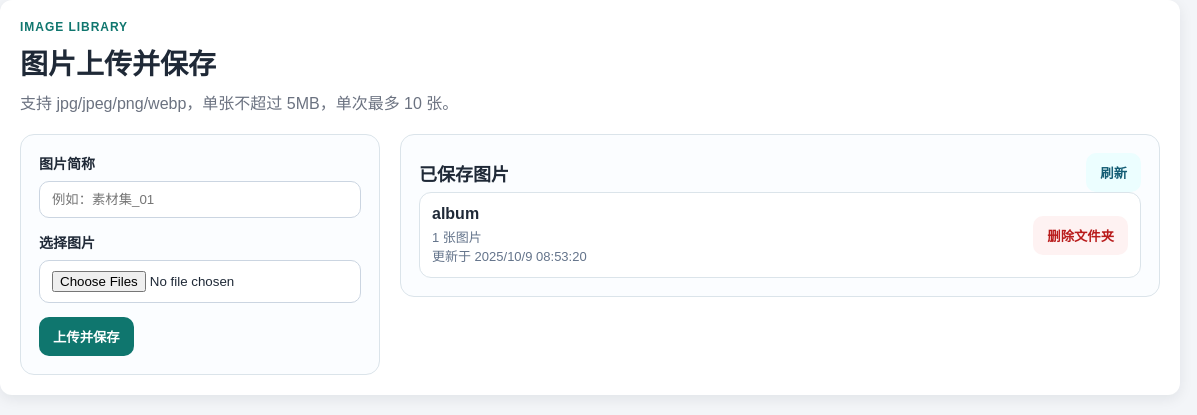
Test: ImageLibraryView › confirms before deleting folder and refreshes list
Click the button with test id "delete-folder-album": {"x": 1081, "y": 235} [1033,216,1128,254]
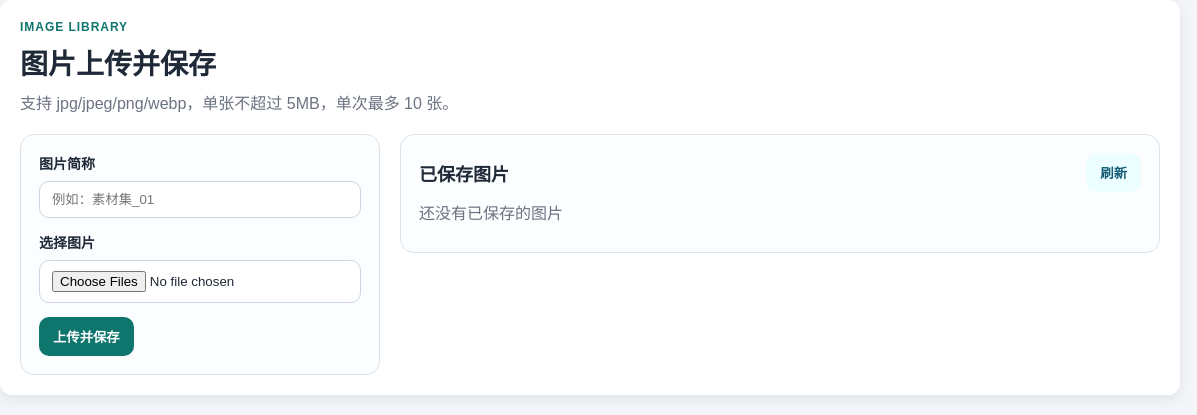
Expected: the text "还没有已保存的图片" is shown, [419,205,563,222]
